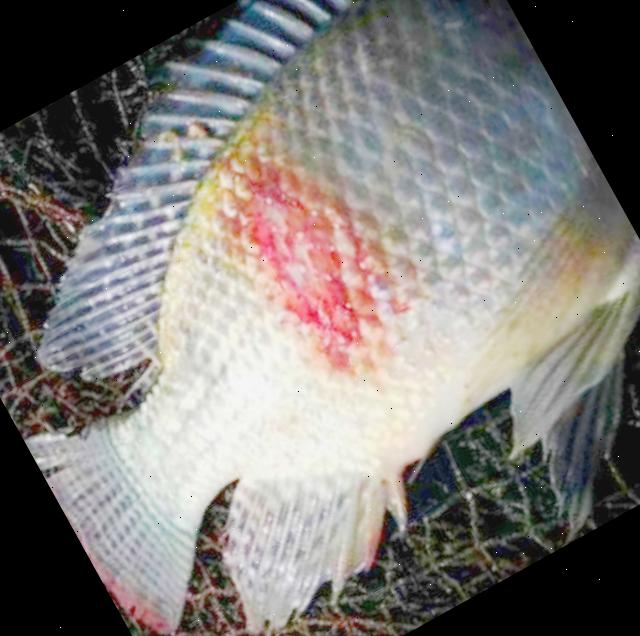Tilapia Lake Virus -TiLV-: (29, 0, 640, 635)
